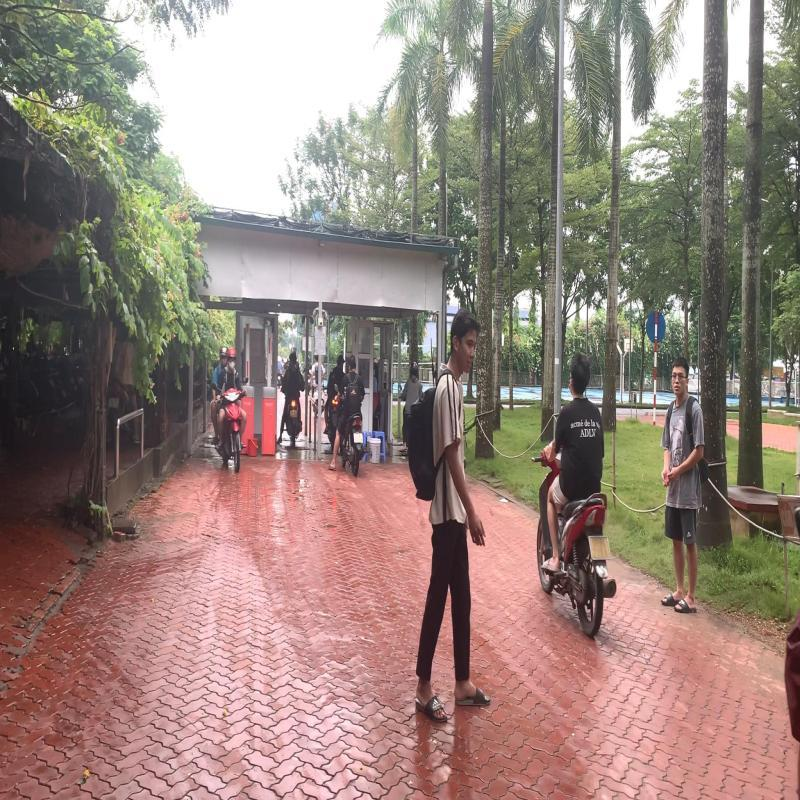nohelmet: (568, 352, 592, 398), (347, 354, 356, 371)
